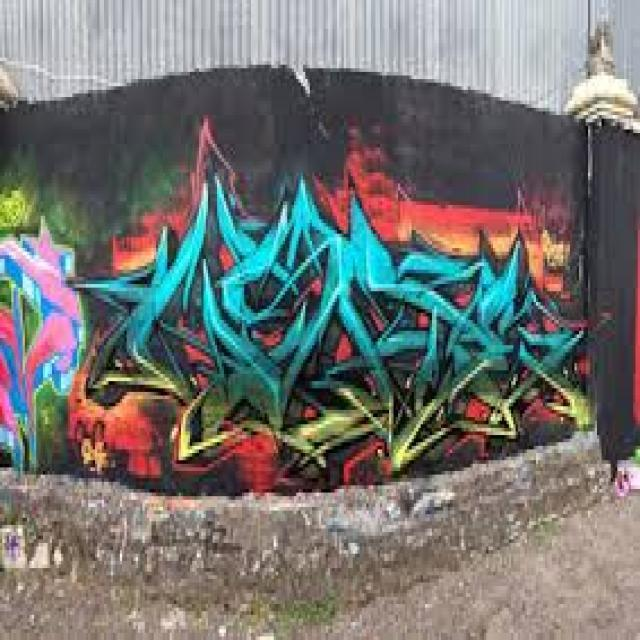-: (68, 119, 594, 488), (0, 210, 82, 476)
